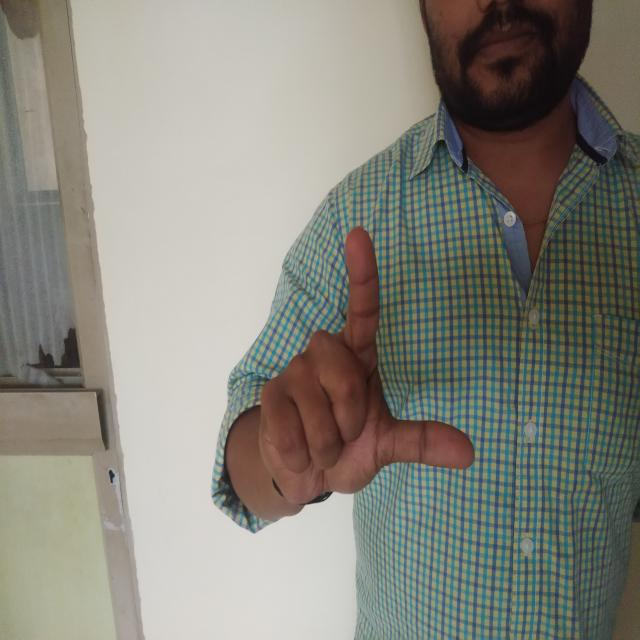L: (238, 208, 482, 515)
